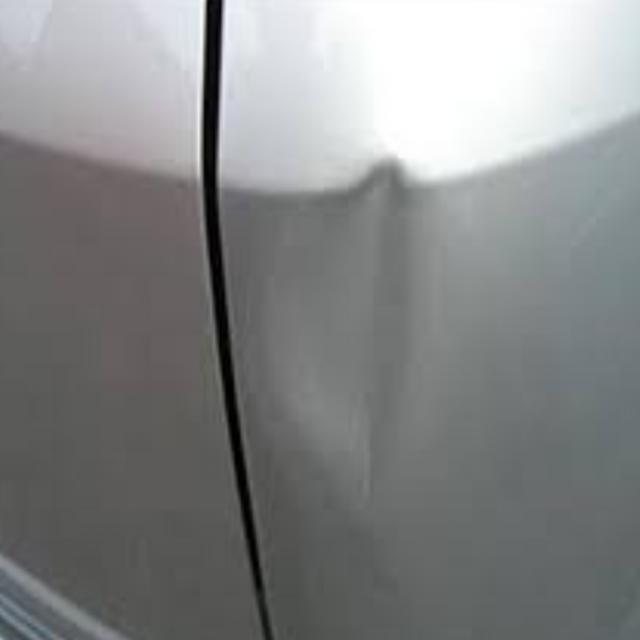dents: (268, 135, 432, 536)
